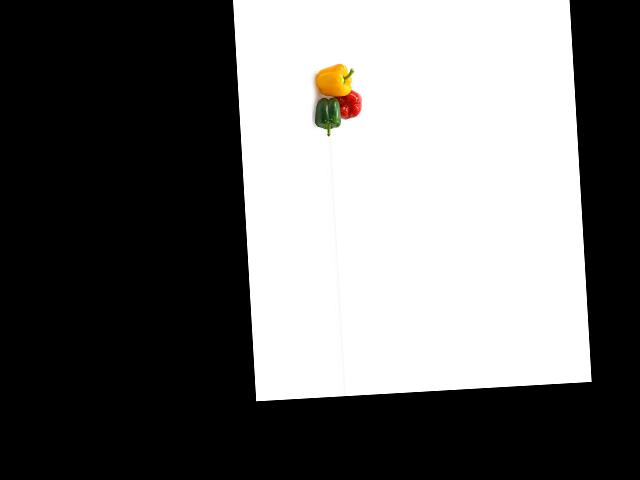bell_pepper: (313, 89, 345, 133)
